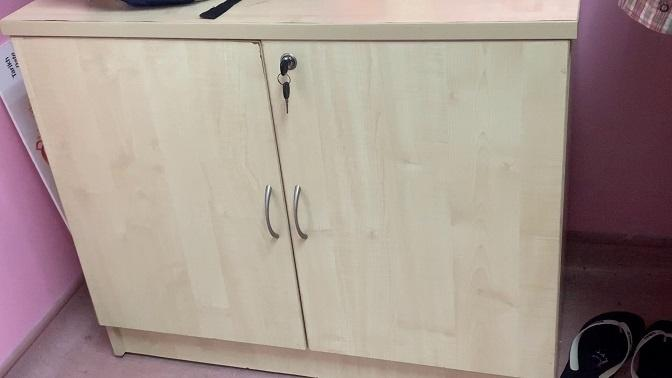cabinet_door: (291, 38, 576, 365), (55, 39, 285, 341)
handle: (261, 184, 281, 242), (290, 182, 309, 241)
